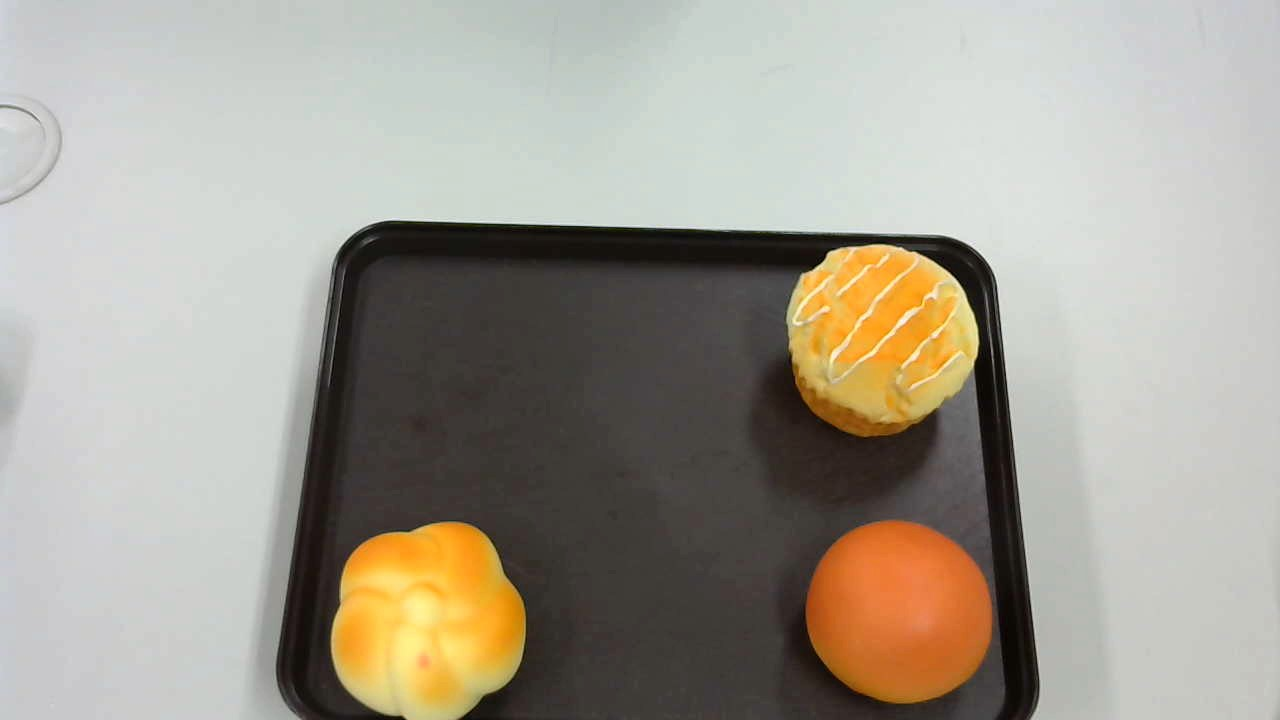bun: (805, 518, 992, 702)
cupcake: (787, 242, 978, 437)
twist bread: (331, 522, 527, 720)
